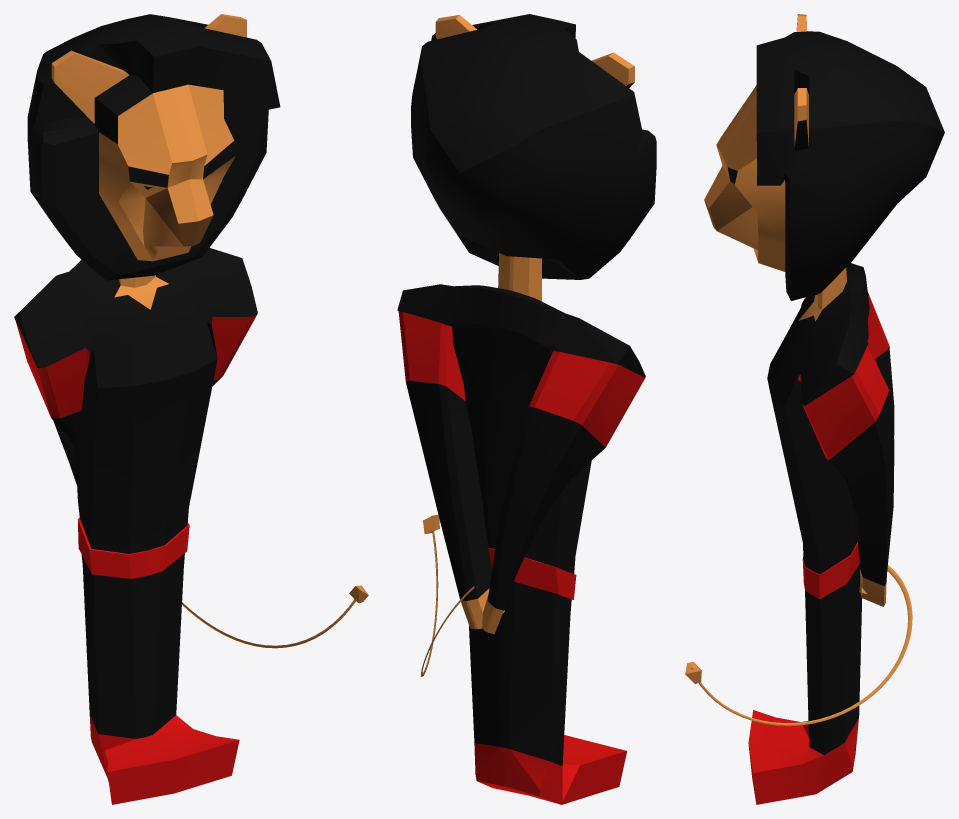
The model's file is lion5.FBX.
The picture shows the model from 3 angles, left to right: view 1: azimuth 30°, elevation 25°; view 2: azimuth 150°, elevation 25°; view 3: azimuth 270°, elevation 25°; orthographic projection. The views are drawn at different scales.
Parts seen in each view (by area): view 1: Box001; view 2: Box001; view 3: Box001.
Part boxes in pixels (bbox=[...]): Box001: bbox=[14, 14, 368, 804]; Box001: bbox=[397, 14, 656, 804]; Box001: bbox=[685, 14, 944, 804].
Size of the model in its own units: 48.31 by 40.38 by 125.
